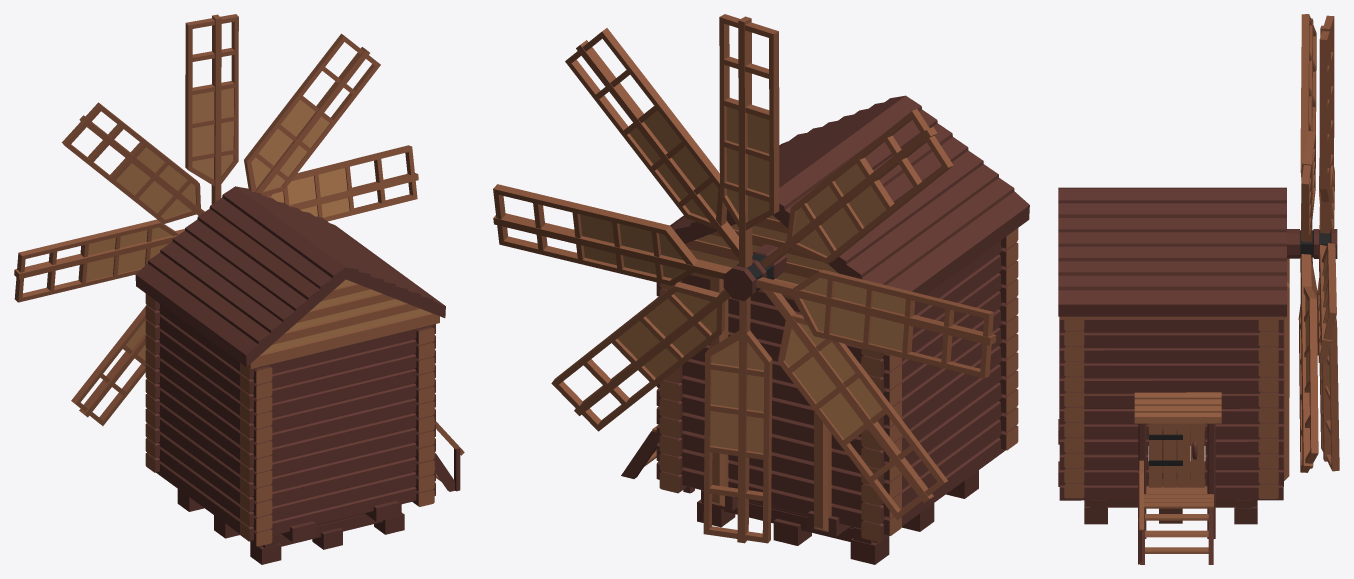
Rendered from mill_LOW_3.fbx.
3 renders of one model, left to right at view 1: azimuth 30°, elevation 25°; view 2: azimuth 150°, elevation 25°; view 3: azimuth 270°, elevation 25°, orthographic. The views are drawn at different scales.
Parts seen in each view (by area): view 1: mill, wind; view 2: wind, mill; view 3: mill, wind, door.
Part boxes in pixels (x1,y1,x2,y2): mill: [135, 186, 464, 564]; wind: [14, 14, 418, 425]; wind: [493, 14, 996, 543]; mill: [621, 95, 1029, 564]; mill: [1058, 187, 1289, 564]; wind: [1287, 14, 1339, 472]; door: [1149, 423, 1204, 487].
Bounding box in the file's own units: 506 × 539 × 298.
